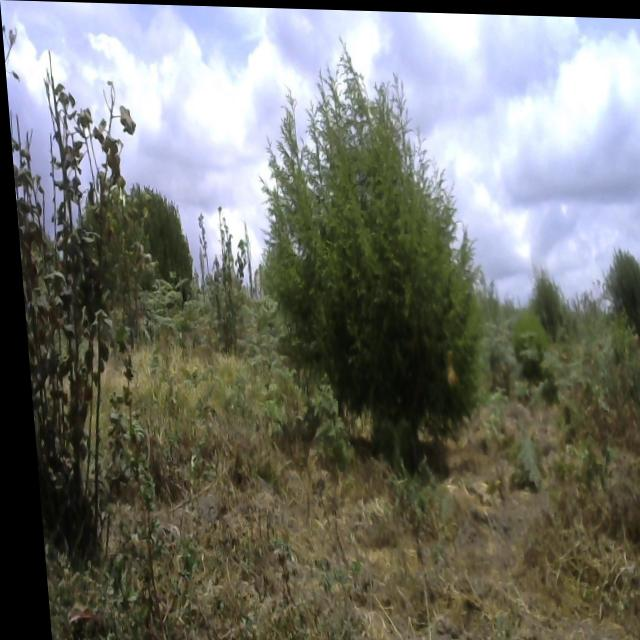cedrus: (240, 32, 482, 478), (602, 241, 640, 345)
other: (4, 61, 173, 569)
